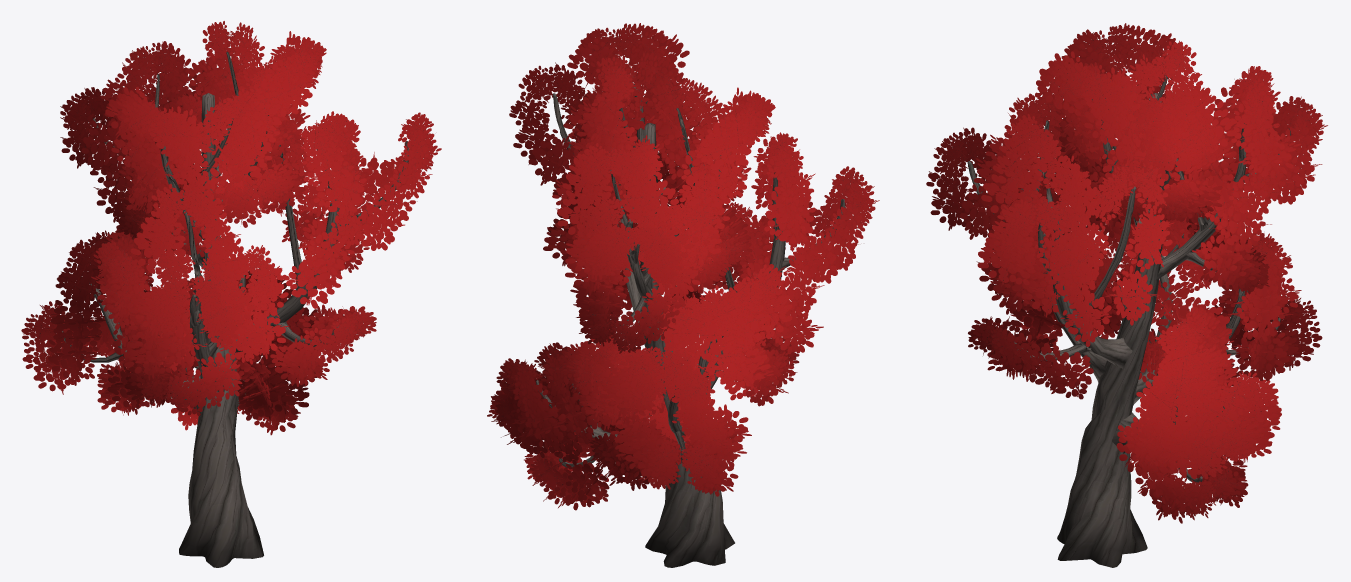
Rendered from TwistedTree_3.glb.
3 views of the same model, side by side, from view 1: azimuth 30°, elevation 25°; view 2: azimuth 150°, elevation 25°; view 3: azimuth 270°, elevation 25° (orthographic). The views are drawn at different scales.
Parts seen in each view (by area): view 1: TwistedTree_3; view 2: TwistedTree_3; view 3: TwistedTree_3.
Boxes of the visible parts, x1=… form: TwistedTree_3: x1=21, y1=21, x2=441, y2=567; TwistedTree_3: x1=487, y1=23, x2=879, y2=567; TwistedTree_3: x1=926, y1=23, x2=1327, y2=567.
Bounding box in the file's own units: 11.36 × 16.07 × 11.51.
Materials: 2 (2 with a texture image).
